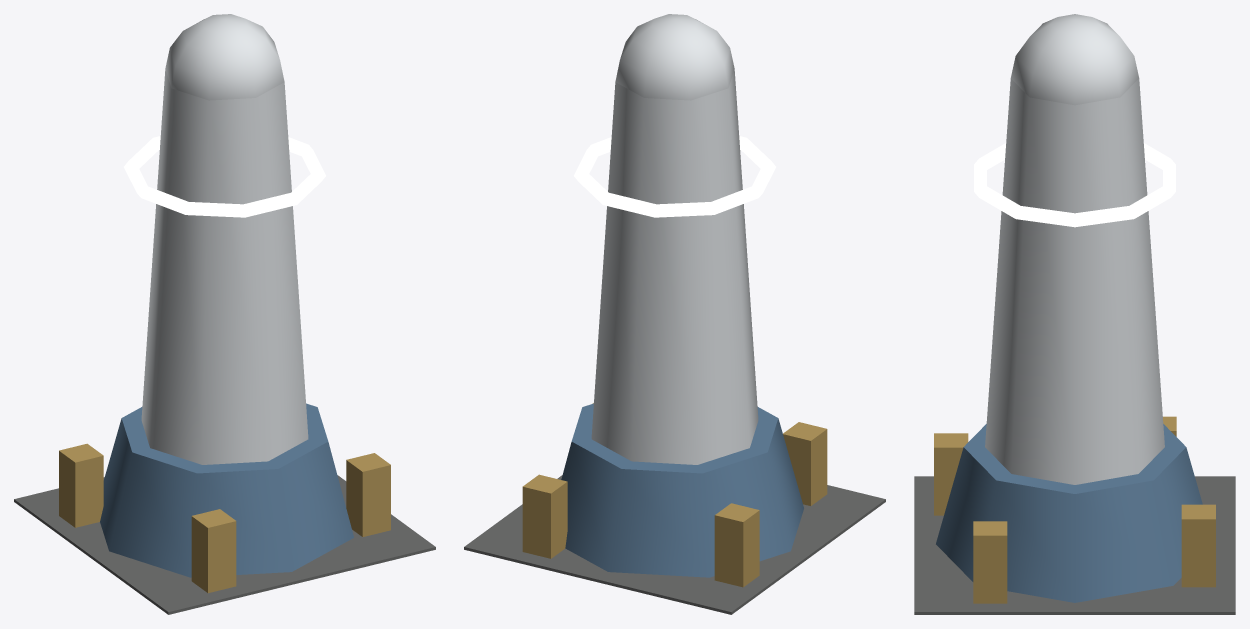
The model's file is bld_special_command_center_a10_lod1.glb.
3 renders of one model, left to right at view 1: azimuth 30°, elevation 25°; view 2: azimuth 150°, elevation 25°; view 3: azimuth 270°, elevation 25°, orthographic. The views are drawn at different scales.
Visible parts, largest first — view 1: body; view 2: body; view 3: body.
Boxes of the visible parts, left/top/right/bottom form: body: left=14, top=14, right=435, bottom=614; body: left=464, top=14, right=885, bottom=614; body: left=914, top=14, right=1235, bottom=614.
Size of the model in its own units: 15 by 27.15 by 15.
